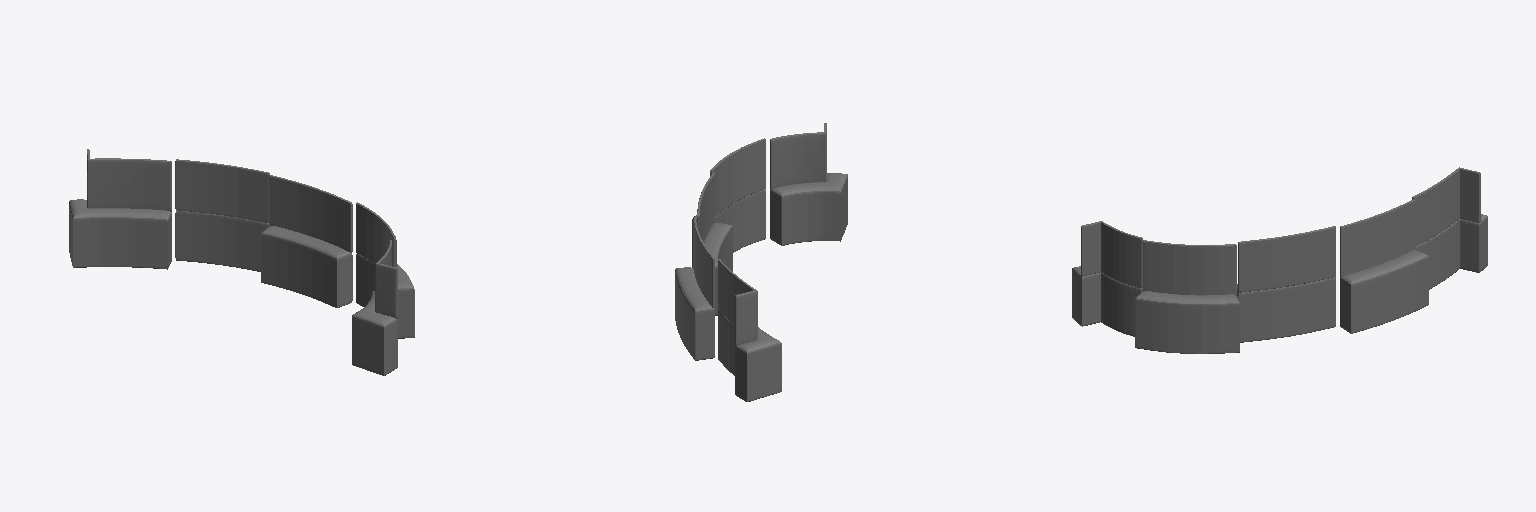
Rendered from SH设计幼儿园Ⅱ460243 (1).obj.
The picture shows the model from 3 angles: view 1: azimuth 30°, elevation 25°; view 2: azimuth 150°, elevation 25°; view 3: azimuth 270°, elevation 25°; orthographic projection.
Parts seen in each view (by area): view 1: SH设计幼儿园Ⅱ460243 (1); view 2: SH设计幼儿园Ⅱ460243 (1); view 3: SH设计幼儿园Ⅱ460243 (1).
Part boxes in pixels (left/top/right/bottom): SH设计幼儿园Ⅱ460243 (1): left=69, top=149, right=414, bottom=375; SH设计幼儿园Ⅱ460243 (1): left=675, top=123, right=847, bottom=401; SH设计幼儿园Ⅱ460243 (1): left=1072, top=167, right=1487, bottom=353.
Size of the model in its own units: 3.03 by 1.48 by 5.55.